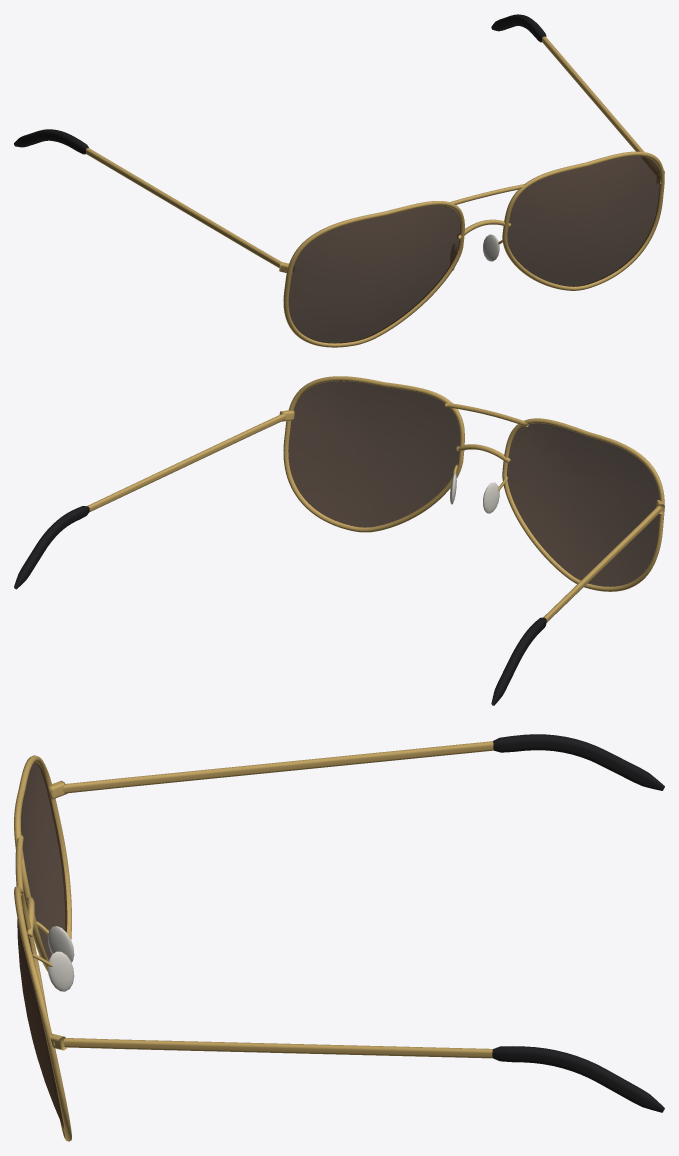
The model's file is aviator.glb.
3 views of the same model, one above another, from view 1: azimuth 30°, elevation 25°; view 2: azimuth 150°, elevation 25°; view 3: azimuth 270°, elevation 25° (orthographic). The views are drawn at different scales.
Parts seen in each view (by area): view 1: glasses; view 2: glasses; view 3: glasses.
Boxes of the visible parts, x1,y1,x2,y2 form: glasses: (14, 14, 664, 347); glasses: (14, 376, 664, 705); glasses: (14, 734, 664, 1141).
Size of the model in its own units: 0.1659 by 0.0468 by 0.1401.
Materials: 2 (1 with a texture image).
